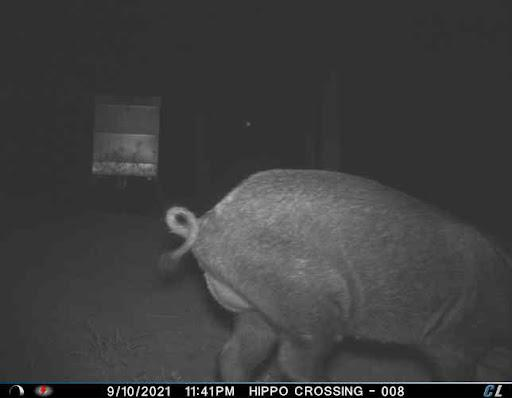Hog: (154, 157, 512, 383)
